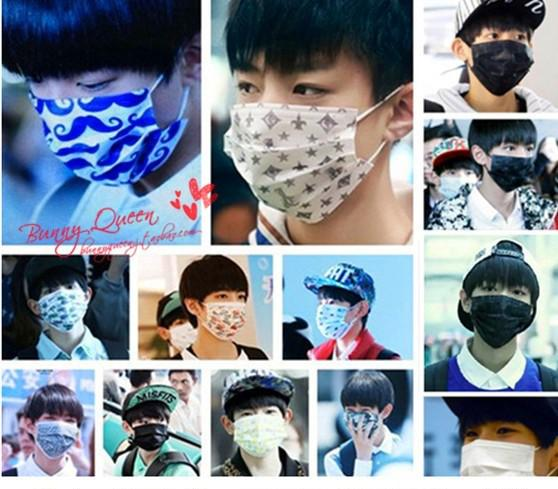NONE: (16, 423, 42, 459), (171, 378, 195, 402)
OK: (223, 49, 383, 225), (25, 45, 190, 187), (459, 421, 553, 489), (466, 266, 540, 340), (472, 21, 539, 88), (32, 276, 88, 331), (199, 278, 249, 338), (236, 400, 284, 454), (487, 137, 534, 191), (128, 409, 173, 454), (37, 414, 79, 457), (314, 297, 356, 339), (436, 167, 480, 205), (166, 314, 205, 353), (344, 402, 378, 436)
